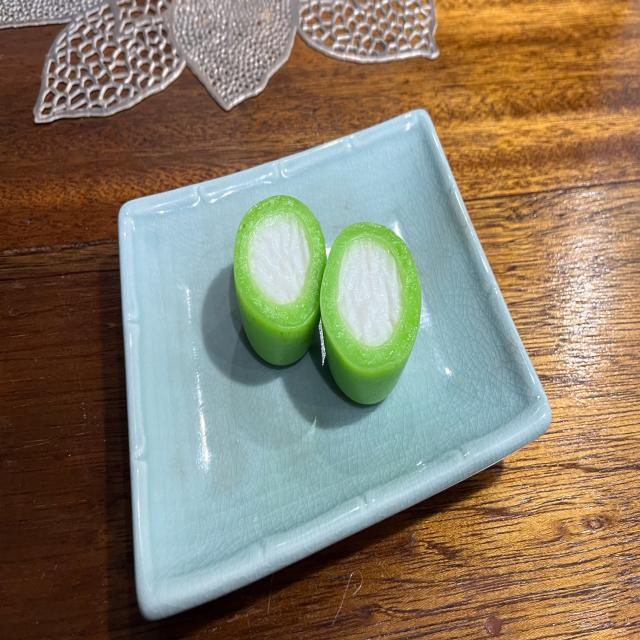nona-manis: (320, 222, 421, 404), (234, 196, 326, 364)
